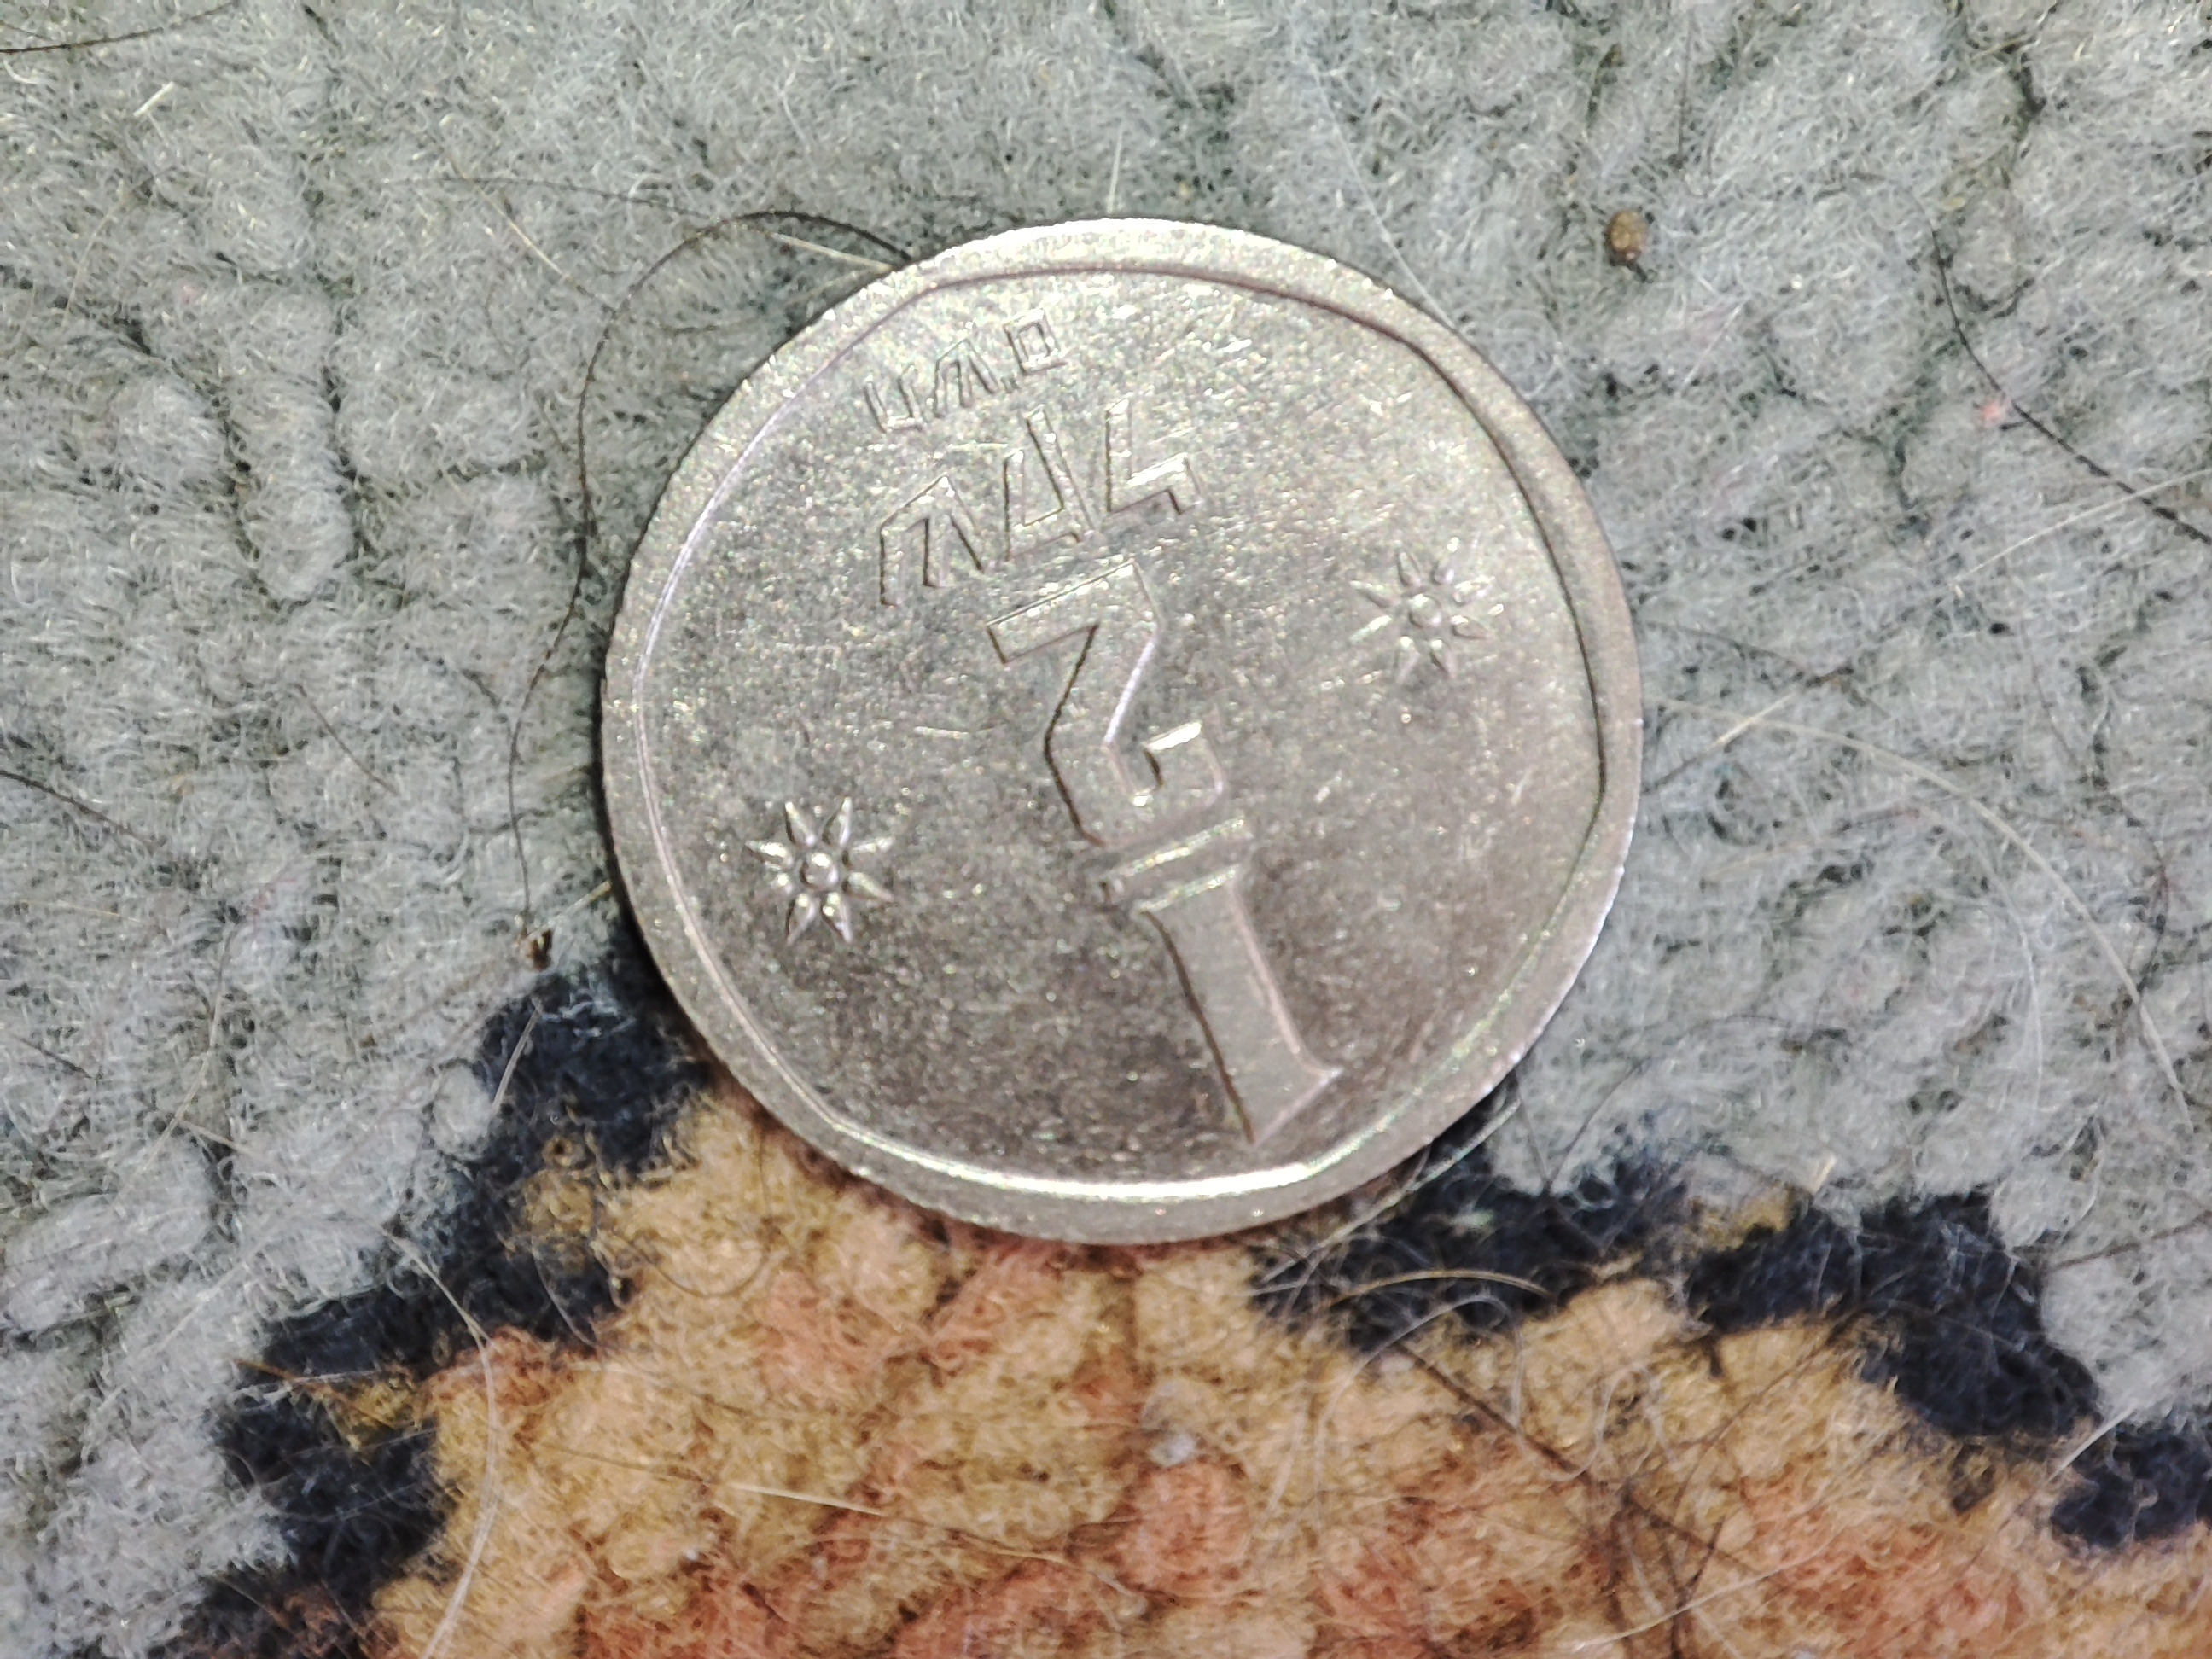1/2 old sheqel: (585, 213, 1651, 1251)
